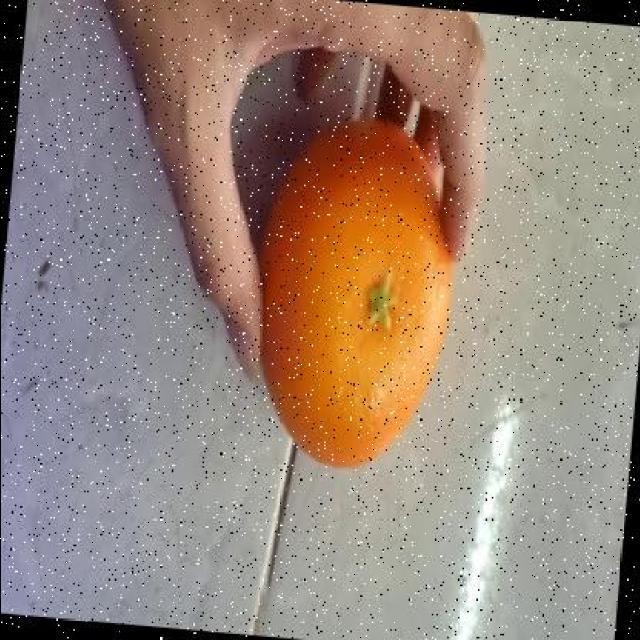Orange: (258, 117, 456, 469)
